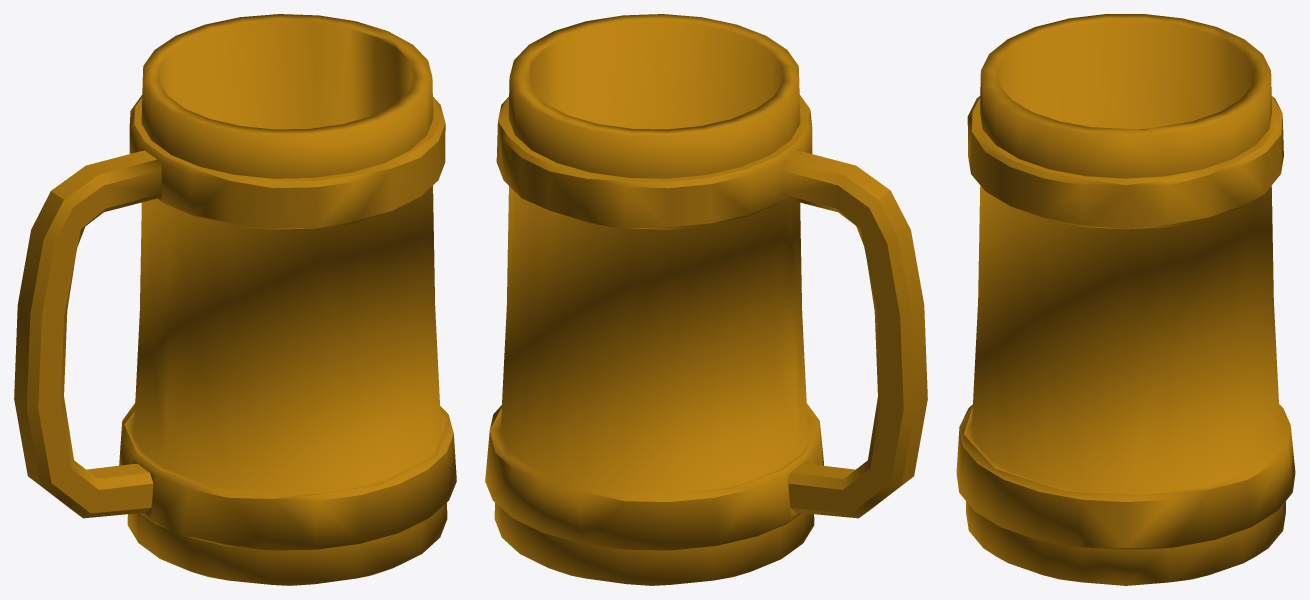
File: beermug.fbx
The picture shows the model from 3 angles, left to right: view 1: azimuth 30°, elevation 25°; view 2: azimuth 150°, elevation 25°; view 3: azimuth 270°, elevation 25°; orthographic projection.
Parts seen in each view (by area): view 1: std_BeerMug_Overwatch_01; view 2: std_BeerMug_Overwatch_01; view 3: std_BeerMug_Overwatch_01.
Boxes of the visible parts, <box> form: std_BeerMug_Overwatch_01: <box>14,14,456,585</box>; std_BeerMug_Overwatch_01: <box>485,14,927,585</box>; std_BeerMug_Overwatch_01: <box>956,14,1295,585</box>.
Bounding box in the file's own units: 51.47 × 52.81 × 36.41.
